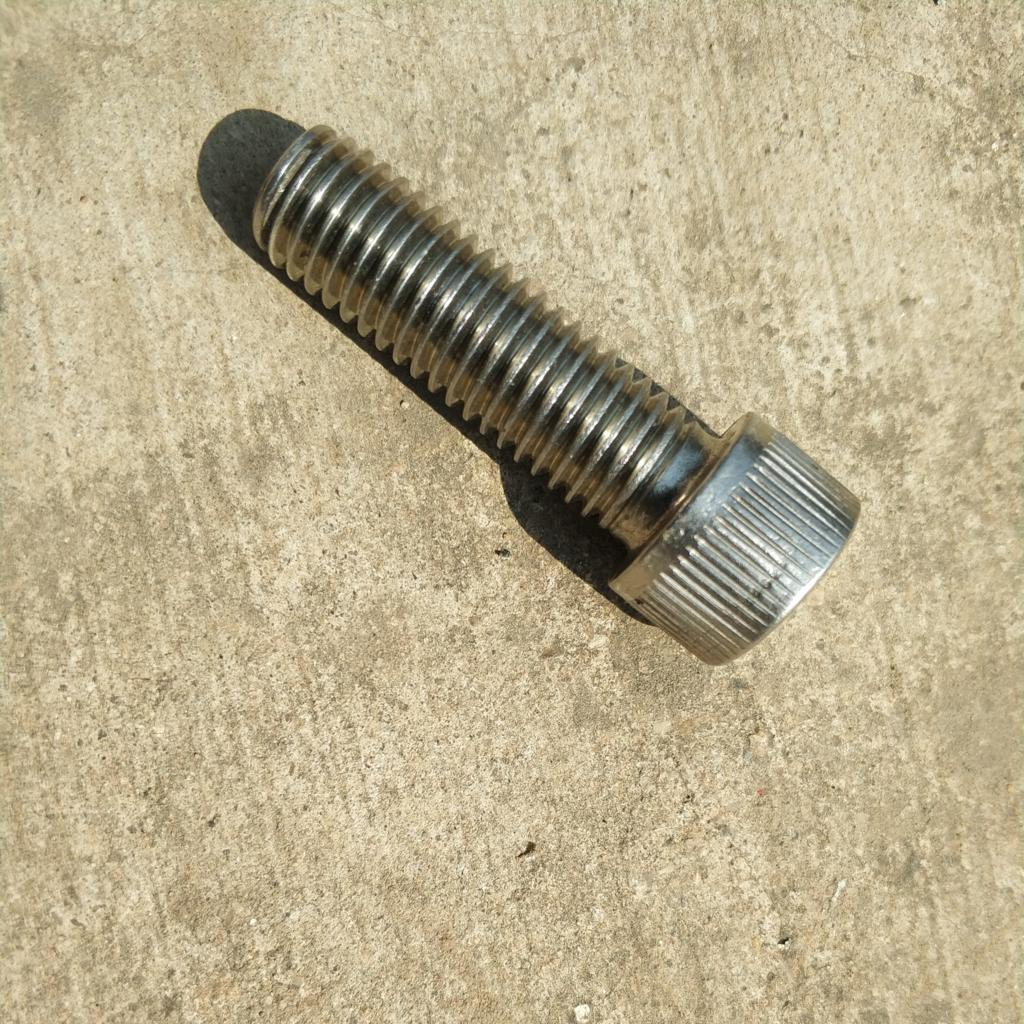screwtype1silver: (245, 119, 864, 683)
